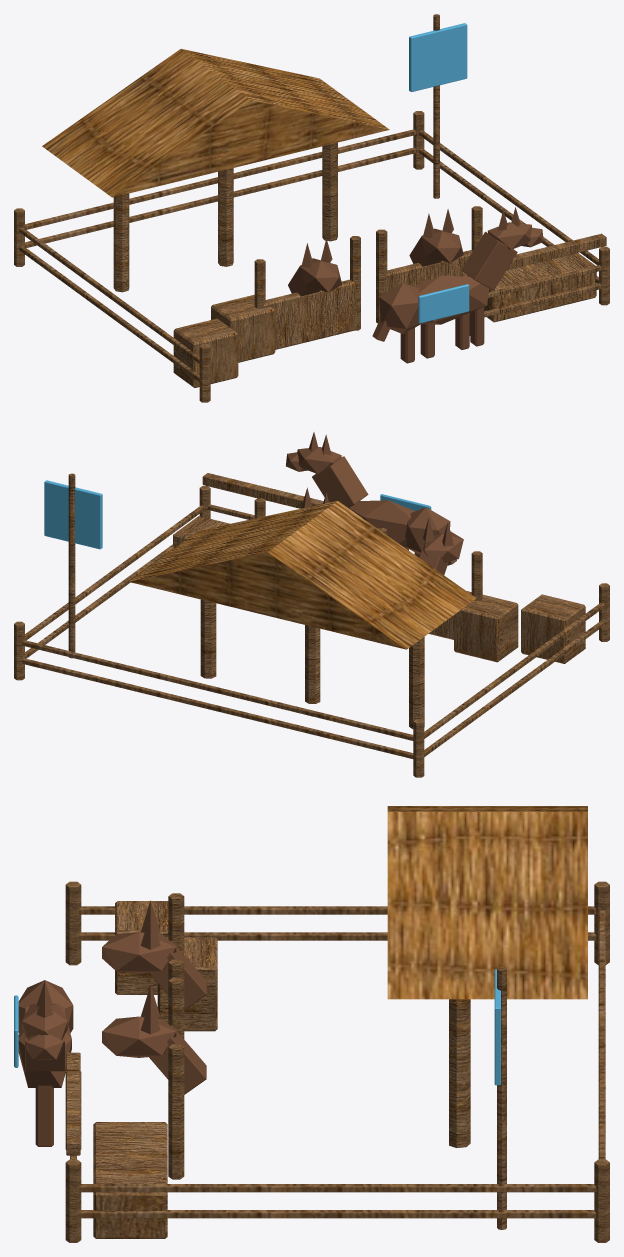
File: edificio-b_017-e0-lod0-WwdYOzHB.glb
The picture shows the model from 3 angles, top to bottom: view 1: azimuth 30°, elevation 25°; view 2: azimuth 150°, elevation 25°; view 3: azimuth 270°, elevation 25°; orthographic projection. The views are drawn at different scales.
Visible parts, largest first — view 1: envolvente_establo, caballos_establo, team_color; view 2: envolvente_establo, caballos_establo, team_color; view 3: envolvente_establo, caballos_establo, team_color.
Boxes of the visible parts, box(x1,y1,x2,y2) form: envolvente_establo: box(14, 14, 609, 402); caballos_establo: box(288, 207, 543, 363); team_color: box(409, 23, 469, 323); envolvente_establo: box(14, 473, 609, 777); caballos_establo: box(286, 432, 463, 574); team_color: box(44, 480, 431, 549); envolvente_establo: box(65, 806, 609, 1242); caballos_establo: box(18, 900, 206, 1146); team_color: box(14, 969, 500, 1085).
Size of the model in its own units: 47.73 by 20 by 41.71.
3 materials, 1 textured.
